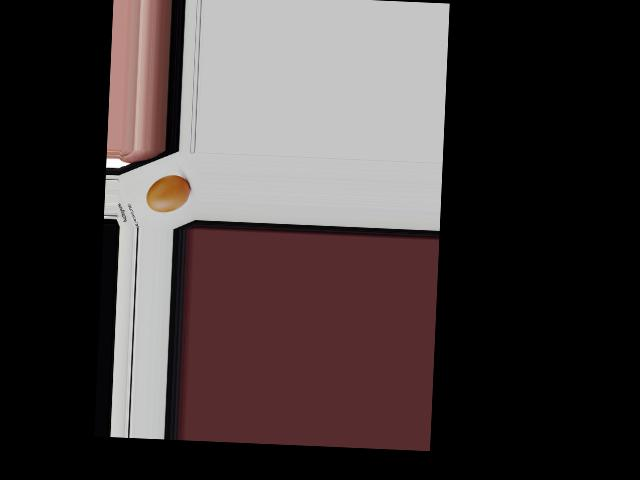egg: (146, 173, 190, 213)
